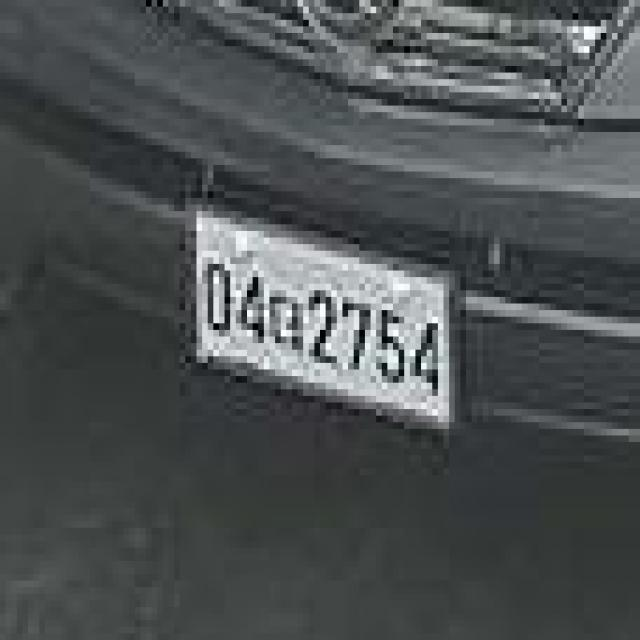illegal_plate: (190, 194, 459, 442)
